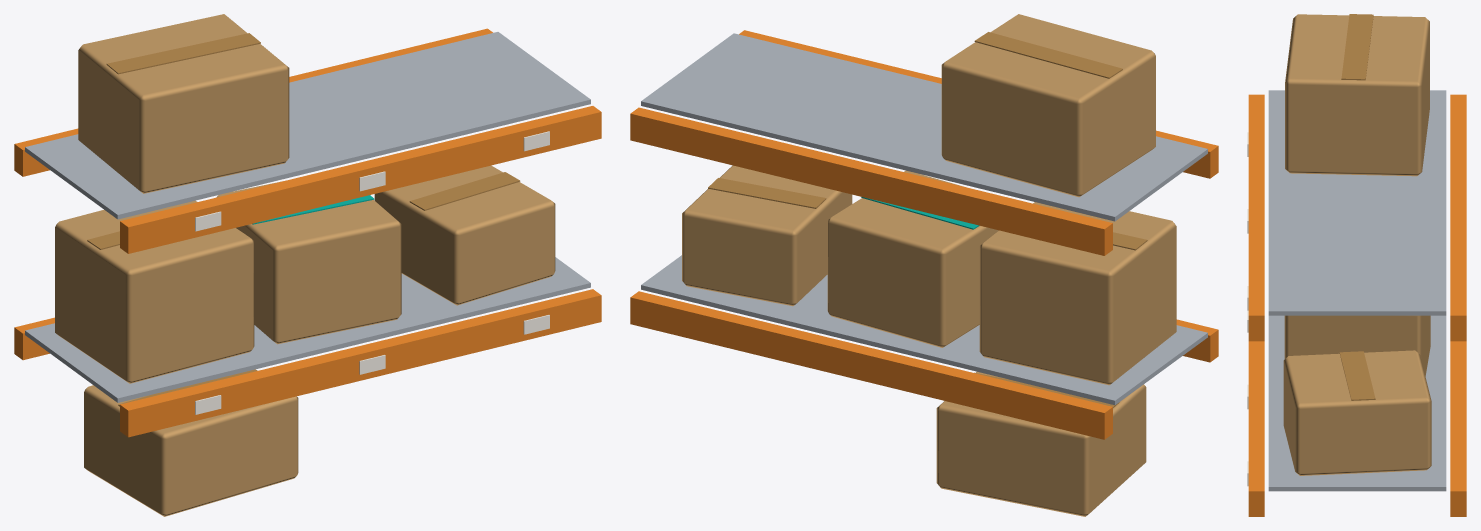
The model's file is station_buffer_ausstattung_1_1.glb.
3 views of the same model, side by side, from view 1: azimuth 30°, elevation 25°; view 2: azimuth 150°, elevation 25°; view 3: azimuth 270°, elevation 25° (orthographic). The views are drawn at different scales.
Parts seen in each view (by area): view 1: station_buffer_ausstattung_1_1; view 2: station_buffer_ausstattung_1_1; view 3: station_buffer_ausstattung_1_1.
Boxes of the visible parts, left/top/right/bottom form: station_buffer_ausstattung_1_1: left=14, top=14, right=601, bottom=516; station_buffer_ausstattung_1_1: left=630, top=14, right=1218, bottom=516; station_buffer_ausstattung_1_1: left=1247, top=14, right=1466, bottom=516.
Size of the model in its own units: 1.3 by 1.11 by 0.543.
